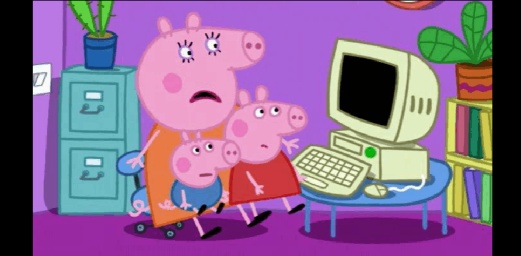Peppa: (220, 86, 306, 228)
